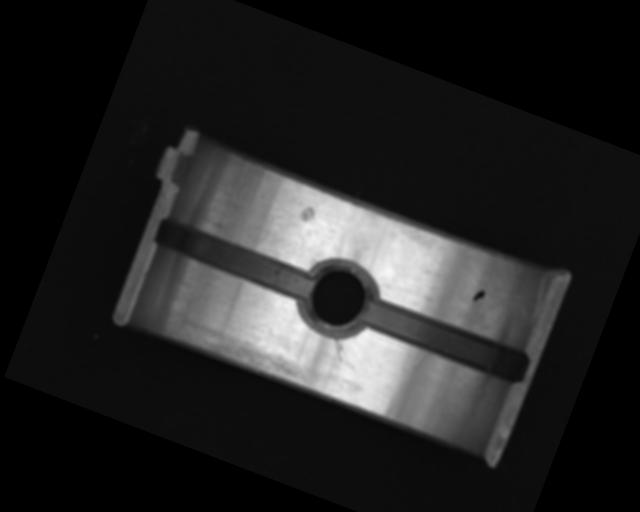blot: (471, 286, 487, 305)
bruise: (296, 203, 318, 225)
gap: (356, 292, 533, 388), (150, 214, 316, 303)
hole: (290, 250, 382, 346)
nick: (327, 336, 348, 363)
scratch: (163, 311, 314, 392)
